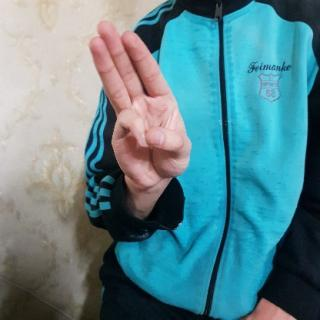THA: (82, 14, 198, 196)
